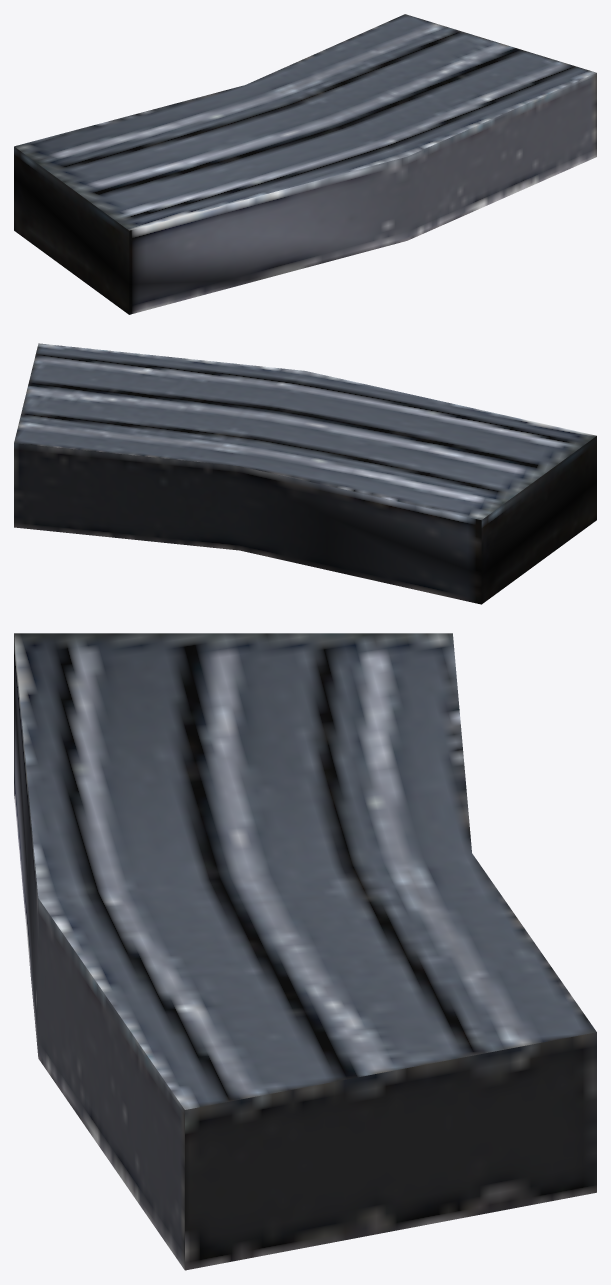
The model's file is STANAGMag.fbx.
The picture shows the model from 3 angles, top to bottom: view 1: azimuth 30°, elevation 25°; view 2: azimuth 150°, elevation 25°; view 3: azimuth 270°, elevation 25°; orthographic projection. The views are drawn at different scales.
Parts seen in each view (by area): view 1: M4.004; view 2: M4.004; view 3: M4.004.
Part boxes in pixels (x1,y1,x2,y2): M4.004: (14, 14, 596, 314); M4.004: (14, 343, 596, 604); M4.004: (14, 633, 596, 1270).
Bounding box in the file's own units: 0.0974 × 0.0153 × 0.0504.
